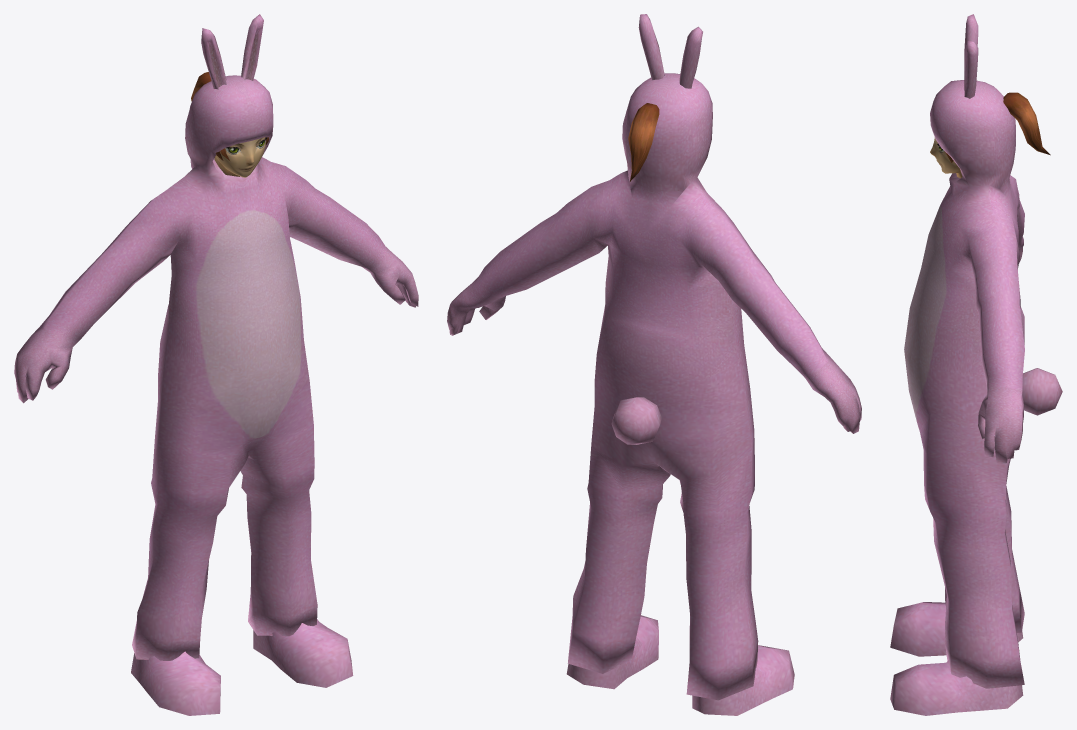
File: Masaru_Costume04.obj
The picture shows the model from 3 angles, left to right: view 1: azimuth 30°, elevation 25°; view 2: azimuth 150°, elevation 25°; view 3: azimuth 270°, elevation 25°; orthographic projection. The views are drawn at different scales.
Parts seen in each view (by area): view 1: Object02; view 2: Object02; view 3: Object02.
Part boxes in pixels (left/top/right/bottom): Object02: left=14, top=14, right=418, bottom=715; Object02: left=447, top=14, right=861, bottom=715; Object02: left=890, top=14, right=1062, bottom=715.
Size of the model in its own units: 129 by 203 by 49.08.
Materials: 1 (1 with a texture image).
